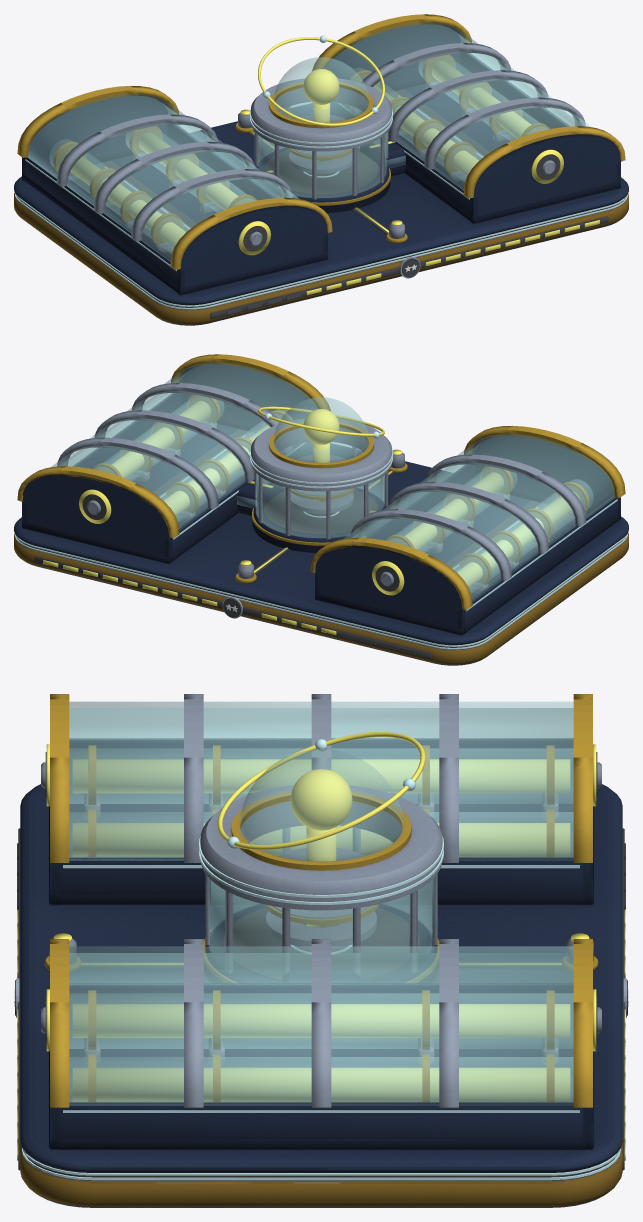
The model's file is SM_Evo_GridHub.fbx.
3 renders of one model, top to bottom at view 1: azimuth 30°, elevation 25°; view 2: azimuth 150°, elevation 25°; view 3: azimuth 270°, elevation 25°, orthographic. The views are drawn at different scales.
Visible parts, largest first — view 1: SMN_Evo_GridHub, Emblem_Fx_GridHub, SpinOrbit_GridHub; view 2: SMN_Evo_GridHub, Emblem_Fx_GridHub, SpinOrbit_GridHub; view 3: SMN_Evo_GridHub, Emblem_Fx_GridHub, SpinOrbit_GridHub.
Boxes of the visible parts, x1,y1,x2,y2 form: SMN_Evo_GridHub: [14, 14, 628, 325]; Emblem_Fx_GridHub: [15, 22, 627, 309]; SpinOrbit_GridHub: [258, 35, 384, 126]; SMN_Evo_GridHub: [14, 354, 628, 665]; Emblem_Fx_GridHub: [15, 362, 627, 649]; SpinOrbit_GridHub: [258, 406, 384, 438]; SMN_Evo_GridHub: [15, 694, 627, 1207]; Emblem_Fx_GridHub: [14, 701, 628, 1180]; SpinOrbit_GridHub: [217, 732, 425, 849].
Bounding box in the file's own units: 2.84 × 0.8904 × 1.88.
